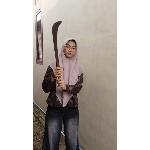Golok: (50, 18, 68, 84)
